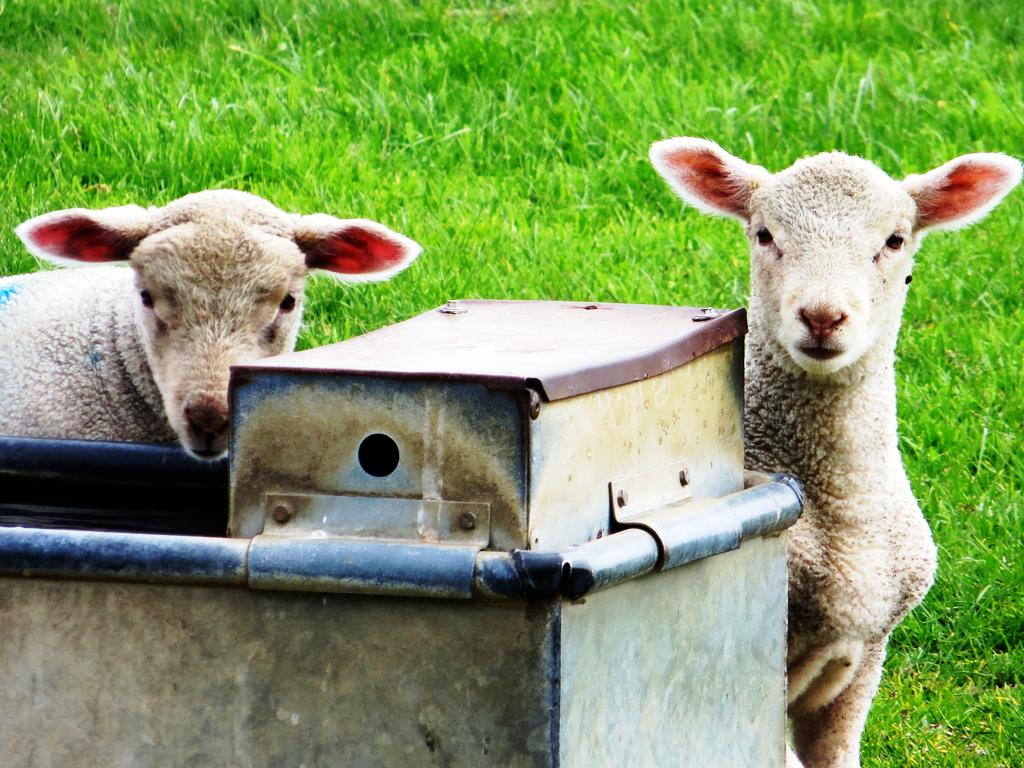Sheep: (638, 132, 1004, 734), (0, 182, 418, 480)
